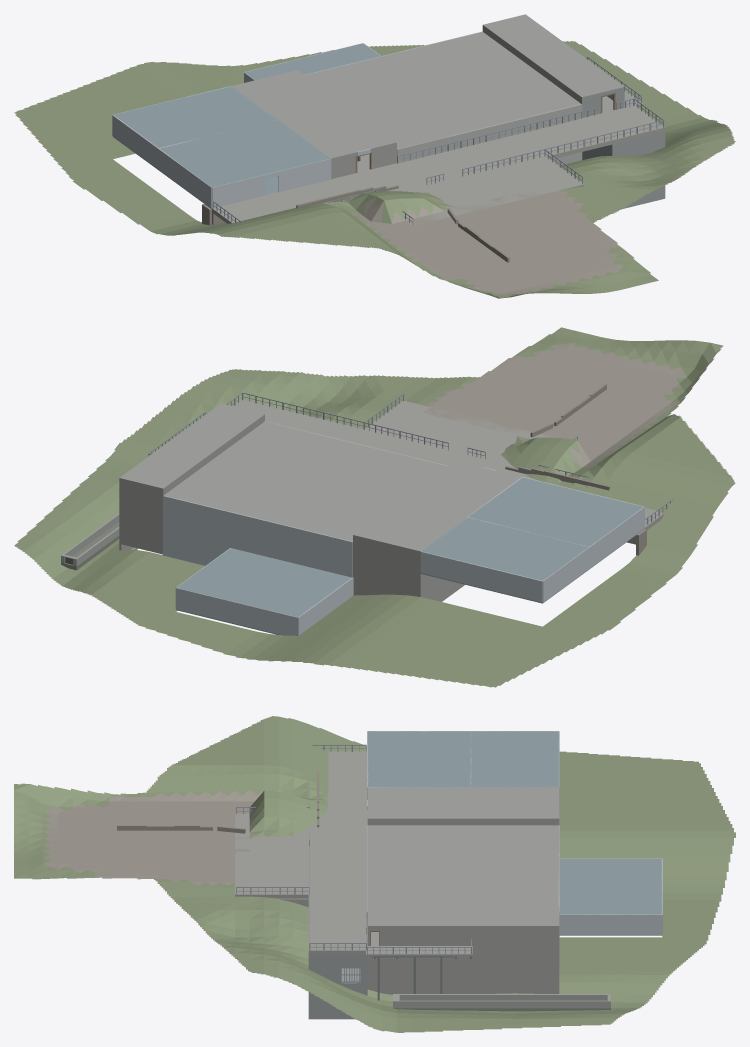
File: tailrace.glb
3 views of the same model, one above another, from view 1: azimuth 30°, elevation 25°; view 2: azimuth 150°, elevation 25°; view 3: azimuth 270°, elevation 25° (orthographic). The views are drawn at different scales.
Parts seen in each view (by area): view 1: Dam saved east-bank ground, WLD-09 turbine enclosed roof region0, WLD-09 complete structural crest deck region0, WLD-09 west hall enclosed roof region0, Ceiling cap control, Ceiling cap office, WLD-09 complete bridge arrival forecourt region0, WLD-09 east hall enclosed roof region0, WLD-09 restart shared turbine workshop north end pier region, Ceiling cap plant, Wall control W, Flat route shell Wall control S.001 (+6 smaller); view 2: Dam saved east-bank ground, WLD-09 turbine enclosed roof region0, WLD-09 west hall enclosed roof region0, Ceiling cap plant, Ceiling cap control, Flat route shell Wall turbine N.001, Ceiling cap office, WLD-09 complete bridge arrival forecourt region0, WLD-09 east hall enclosed roof region0, WLD-09 complete structural crest deck region0, WLD-09 west-hall N end region0, WLD-09 hall N end region0 (+7 smaller); view 3: Dam saved east-bank ground, WLD-09 turbine enclosed roof region0, WLD-09 complete structural crest deck region0, WLD-09 hall E pier0 region0, WLD-09 west hall enclosed roof region0, Ceiling cap control, Ceiling cap plant, Ceiling cap office, WLD-09 complete bridge arrival forecourt region0, WLD-09 east hall enclosed roof region0, Wall plant E, Entrance rebuild Dam tailrace east continuous retaining wall (+8 smaller).
Boxes of the visible parts, left/top/right/bottom form: Dam saved east-bank ground: left=14, top=41, right=735, bottom=298; WLD-09 turbine enclosed roof region0: left=305, top=32, right=580, bottom=148; WLD-09 complete structural crest deck region0: left=212, top=105, right=665, bottom=223; WLD-09 west hall enclosed roof region0: left=232, top=70, right=396, bottom=160; Ceiling cap control: left=160, top=119, right=330, bottom=187; Ceiling cap office: left=113, top=86, right=276, bottom=147; WLD-09 complete bridge arrival forecourt region0: left=403, top=156, right=584, bottom=225; WLD-09 east hall enclosed roof region0: left=482, top=14, right=624, bottom=99; WLD-09 restart shared turbine workshop north end pier region: left=462, top=104, right=582, bottom=165; Ceiling cap plant: left=245, top=43, right=380, bottom=80; Wall control W: left=158, top=148, right=211, bottom=208; Flat route shell Wall control S.001: left=277, top=158, right=331, bottom=192; Dam saved east-bank ground: left=14, top=327, right=735, bottom=687; WLD-09 turbine enclosed roof region0: left=163, top=421, right=446, bottom=541; WLD-09 west hall enclosed roof region0: left=353, top=460, right=519, bottom=553; Ceiling cap plant: left=176, top=548, right=351, bottom=617; Ceiling cap control: left=468, top=477, right=643, bottom=546; Flat route shell Wall turbine N.001: left=163, top=496, right=286, bottom=563; Ceiling cap office: left=421, top=517, right=588, bottom=580; WLD-09 complete bridge arrival forecourt region0: left=365, top=400, right=554, bottom=464; WLD-09 east hall enclosed roof region0: left=119, top=403, right=264, bottom=490; WLD-09 complete structural crest deck region0: left=233, top=399, right=664, bottom=529; WLD-09 west-hall N end region0: left=353, top=535, right=421, bottom=596; WLD-09 hall N end region0: left=119, top=478, right=164, bottom=552; Dam saved east-bank ground: left=14, top=716, right=735, bottom=1032; WLD-09 turbine enclosed roof region0: left=367, top=825, right=559, bottom=905; WLD-09 complete structural crest deck region0: left=308, top=751, right=367, bottom=954; WLD-09 hall E pier0 region0: left=379, top=925, right=559, bottom=985; WLD-09 west hall enclosed roof region0: left=367, top=787, right=559, bottom=820; Ceiling cap control: left=367, top=731, right=470, bottom=787; Ceiling cap plant: left=559, top=858, right=662, bottom=914; Ceiling cap office: left=470, top=731, right=559, bottom=787; WLD-09 complete bridge arrival forecourt region0: left=235, top=813, right=308, bottom=898; WLD-09 east hall enclosed roof region0: left=367, top=905, right=559, bottom=927; Wall plant E: left=559, top=914, right=662, bottom=934; Entrance rebuild Dam tailrace east continuous retaining wall: left=393, top=1000, right=610, bottom=1008.
Bounding box in the file's own units: 85 × 13.4 × 98.
48 materials, 26 textured.
